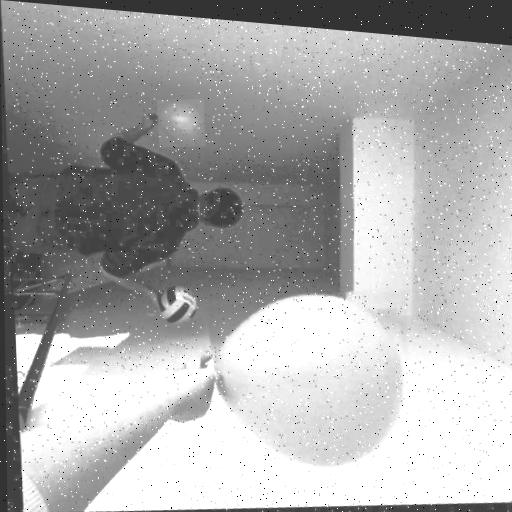balloon: (206, 282, 410, 500), (156, 100, 204, 155)
